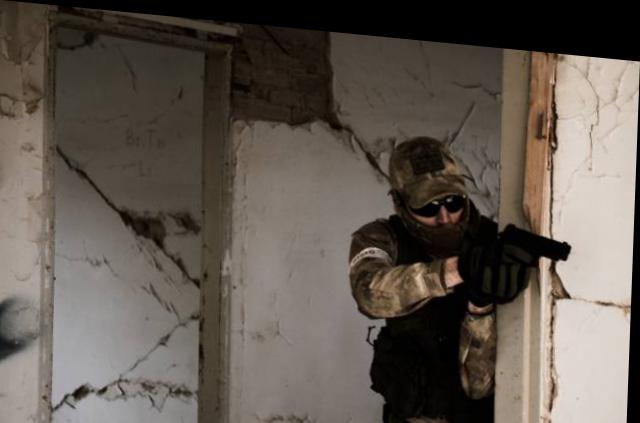other: (345, 114, 535, 422)
